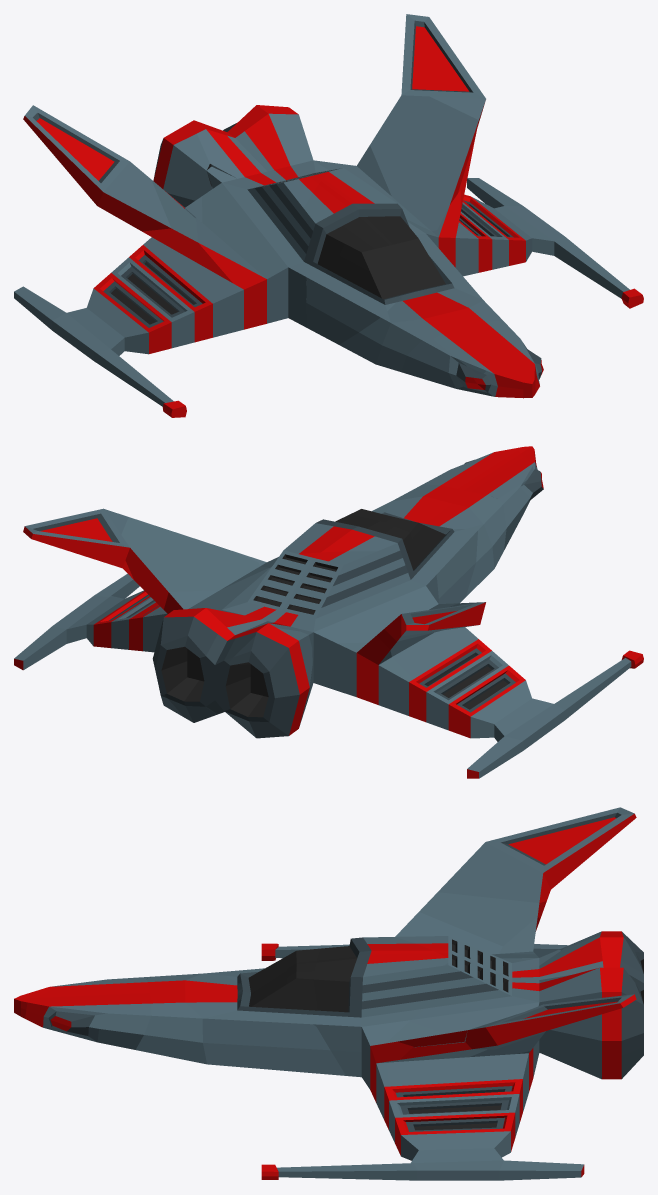
The model's file is FracturedSpaceship.fbx.
3 views of the same model, one above another, from view 1: azimuth 30°, elevation 25°; view 2: azimuth 150°, elevation 25°; view 3: azimuth 270°, elevation 25° (orthographic).
Parts seen in each view (by area): view 1: Spaceship_shard.006, Spaceship_shard.013, Spaceship_shard.002, Spaceship_shard.009, Spaceship_shard.004, Spaceship_shard, Spaceship_shard.015, Spaceship_shard.016, Spaceship_shard.005, Spaceship_shard.011, Spaceship_shard.001, Spaceship_shard.012 (+5 smaller); view 2: Spaceship_shard.006, Spaceship_shard.004, Spaceship_shard.013, Spaceship_shard.012, Spaceship_shard.002, Spaceship_shard.014, Spaceship_shard.005, Spaceship_shard, Spaceship_shard.009, Spaceship_shard.015, Spaceship_shard.011, Spaceship_shard.001 (+3 smaller); view 3: Spaceship_shard.005, Spaceship_shard.004, Spaceship_shard, Spaceship_shard.015, Spaceship_shard.016, Spaceship_shard.001, Spaceship_shard.006, Spaceship_shard.013, Spaceship_shard.011, Spaceship_shard.009, Spaceship_shard.017, Spaceship_shard.002 (+4 smaller).
Boxes of the visible parts, x1,y1,x2,y2 form: Spaceship_shard.006: [27, 179, 271, 417]; Spaceship_shard.013: [195, 166, 329, 327]; Spaceship_shard.002: [370, 85, 478, 231]; Spaceship_shard.009: [306, 231, 443, 344]; Spaceship_shard.004: [192, 105, 392, 200]; Spaceship_shard: [339, 254, 502, 371]; Spaceship_shard.015: [303, 169, 442, 280]; Spaceship_shard.016: [23, 105, 170, 231]; Spaceship_shard.005: [407, 139, 563, 276]; Spaceship_shard.011: [402, 14, 485, 126]; Spaceship_shard.001: [433, 321, 543, 392]; Spaceship_shard.012: [14, 121, 219, 306]; Spaceship_shard.006: [377, 603, 643, 766]; Spaceship_shard.004: [152, 549, 299, 722]; Spaceship_shard.013: [291, 551, 457, 650]; Spaceship_shard.012: [205, 628, 491, 778]; Spaceship_shard.002: [118, 517, 268, 616]; Spaceship_shard.014: [309, 635, 497, 770]; Spaceship_shard.005: [22, 590, 165, 664]; Spaceship_shard: [372, 484, 506, 596]; Spaceship_shard.009: [351, 509, 477, 603]; Spaceship_shard.015: [258, 514, 436, 577]; Spaceship_shard.011: [23, 508, 133, 579]; Spaceship_shard.001: [423, 448, 535, 498]; Spaceship_shard.005: [364, 1042, 565, 1180]; Spaceship_shard.004: [409, 935, 643, 1078]; Spaceship_shard: [136, 972, 345, 1075]; Spaceship_shard.015: [313, 937, 451, 1080]; Spaceship_shard.016: [438, 807, 636, 902]; Spaceship_shard.001: [25, 979, 151, 1049]; Spaceship_shard.006: [261, 892, 553, 960]; Spaceship_shard.013: [395, 912, 560, 1047]; Spaceship_shard.011: [465, 994, 636, 1049]; Spaceship_shard.009: [219, 948, 320, 1026]; Spaceship_shard.017: [261, 1142, 418, 1180]; Spaceship_shard.002: [386, 1003, 553, 1060].
Bounding box in the file's own units: 10.32 × 3.5 × 12.
Materials: 1 (1 with a texture image).
